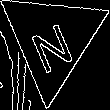N_NW: (26, 9, 78, 71)
